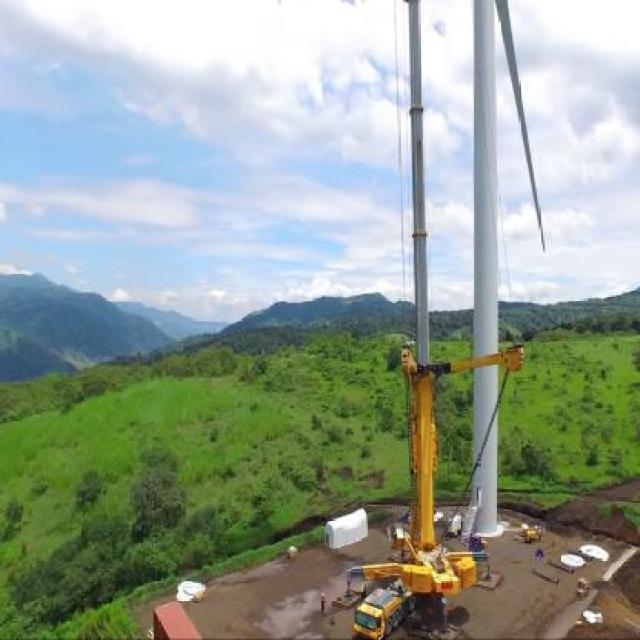Mobile Crane: (341, 1, 519, 639)
